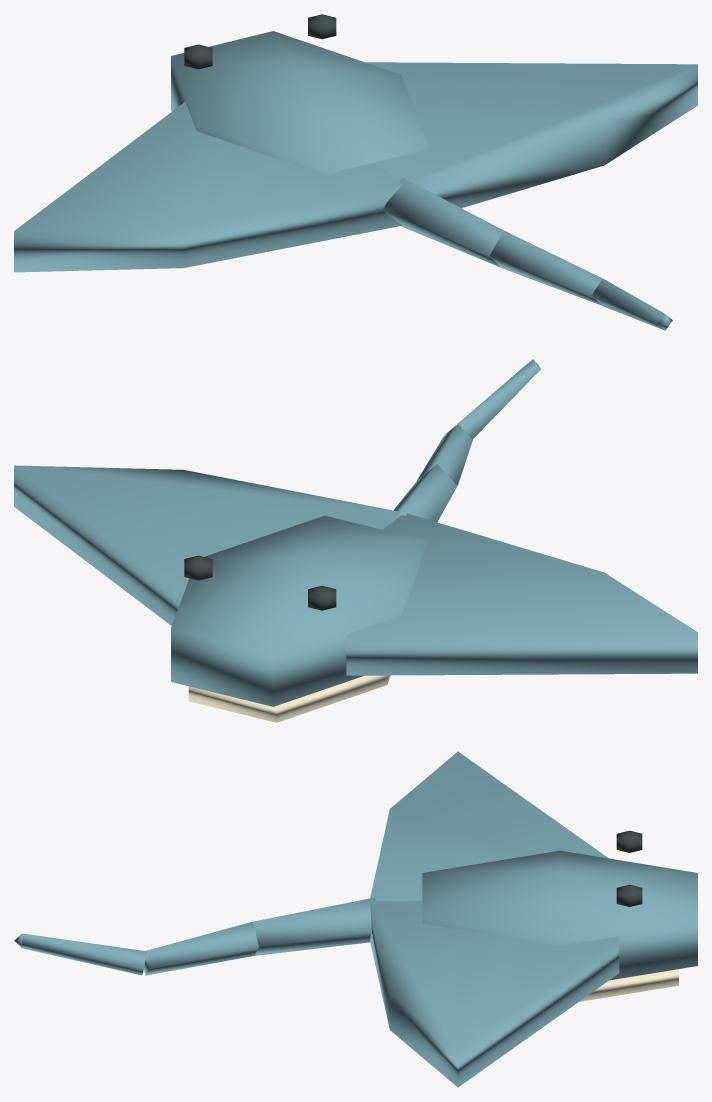
File: fish_stingray_low.glb
3 views of the same model, one above another, from view 1: azimuth 30°, elevation 25°; view 2: azimuth 150°, elevation 25°; view 3: azimuth 270°, elevation 25° (orthographic). The views are drawn at different scales.
Size of the model in its own units: 0.6 by 0.1085 by 0.5795.
